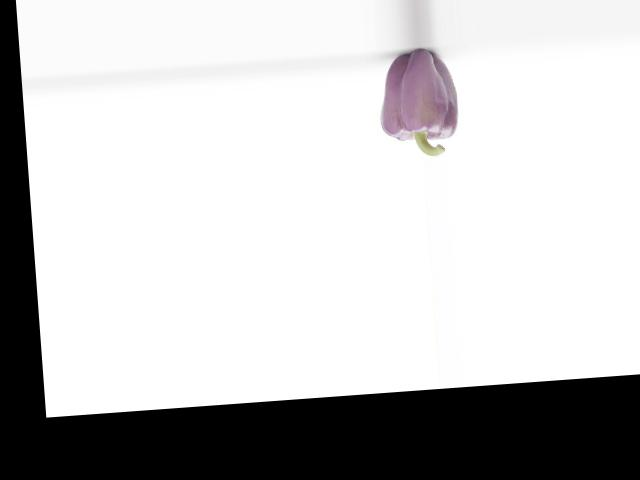bell_pepper: (369, 48, 469, 158)
